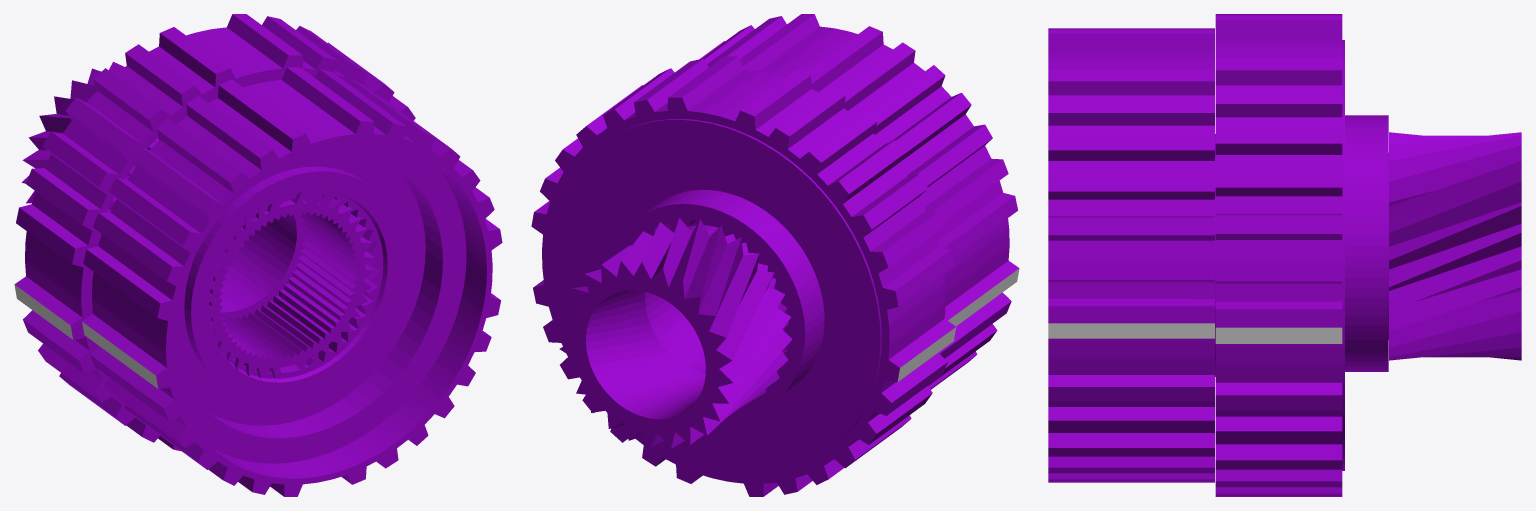
File: 664 and 668.fbx
3 views of the same model, side by side, from view 1: azimuth 30°, elevation 25°; view 2: azimuth 150°, elevation 25°; view 3: azimuth 270°, elevation 25° (orthographic). The views are drawn at different scales.
Parts seen in each view (by area): view 1: 664 and 668; view 2: 664 and 668; view 3: 664 and 668.
Part boxes in pixels (x1=…): 664 and 668: x1=14, y1=14, x2=502, y2=496; 664 and 668: x1=531, y1=14, x2=1019, y2=496; 664 and 668: x1=1048, y1=14, x2=1521, y2=496.
Size of the model in its own units: 866 by 866 by 856.
